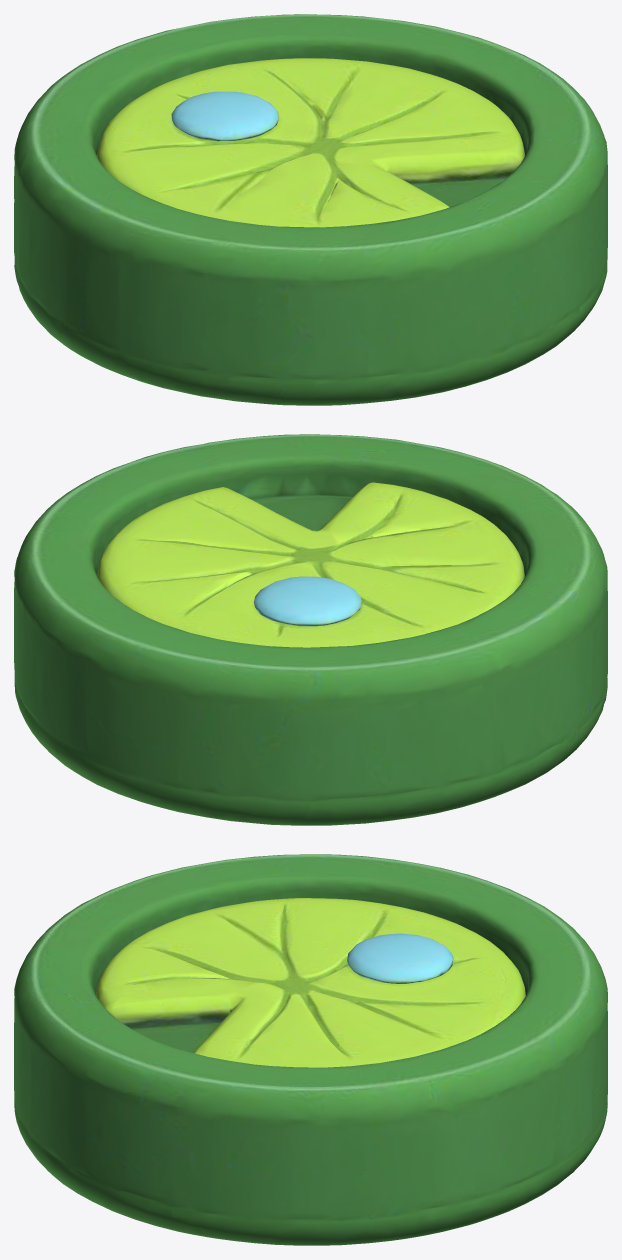
The model's file is puck-lilypad.glb.
3 renders of one model, top to bottom at view 1: azimuth 30°, elevation 25°; view 2: azimuth 150°, elevation 25°; view 3: azimuth 270°, elevation 25°, orthographic.
Visible parts, largest first — view 1: tripo_node_3d0f71cf-2d98-4a56-b1b6-8b9cd6da357f; view 2: tripo_node_3d0f71cf-2d98-4a56-b1b6-8b9cd6da357f; view 3: tripo_node_3d0f71cf-2d98-4a56-b1b6-8b9cd6da357f.
Part boxes in pixels (<box>): tripo_node_3d0f71cf-2d98-4a56-b1b6-8b9cd6da357f: <box>14,14,607,405</box>; tripo_node_3d0f71cf-2d98-4a56-b1b6-8b9cd6da357f: <box>14,434,607,825</box>; tripo_node_3d0f71cf-2d98-4a56-b1b6-8b9cd6da357f: <box>14,854,607,1245</box>.
Bounding box in the file's own units: 0.9995 × 0.2978 × 1.
Materials: 1 (1 with a texture image).
